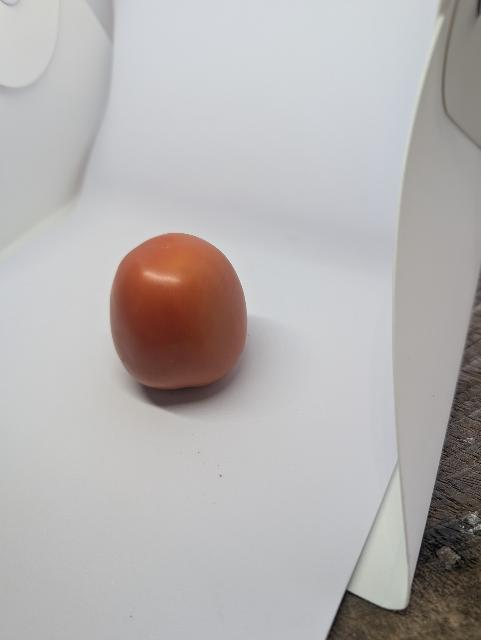red: (86, 203, 284, 424)
